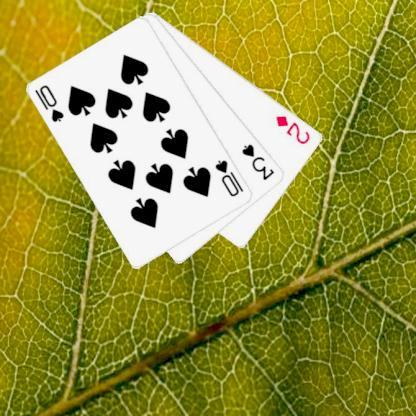10S: (212, 157, 246, 199), (32, 82, 66, 124)
2D: (273, 112, 312, 146)
3S: (239, 141, 276, 182)
